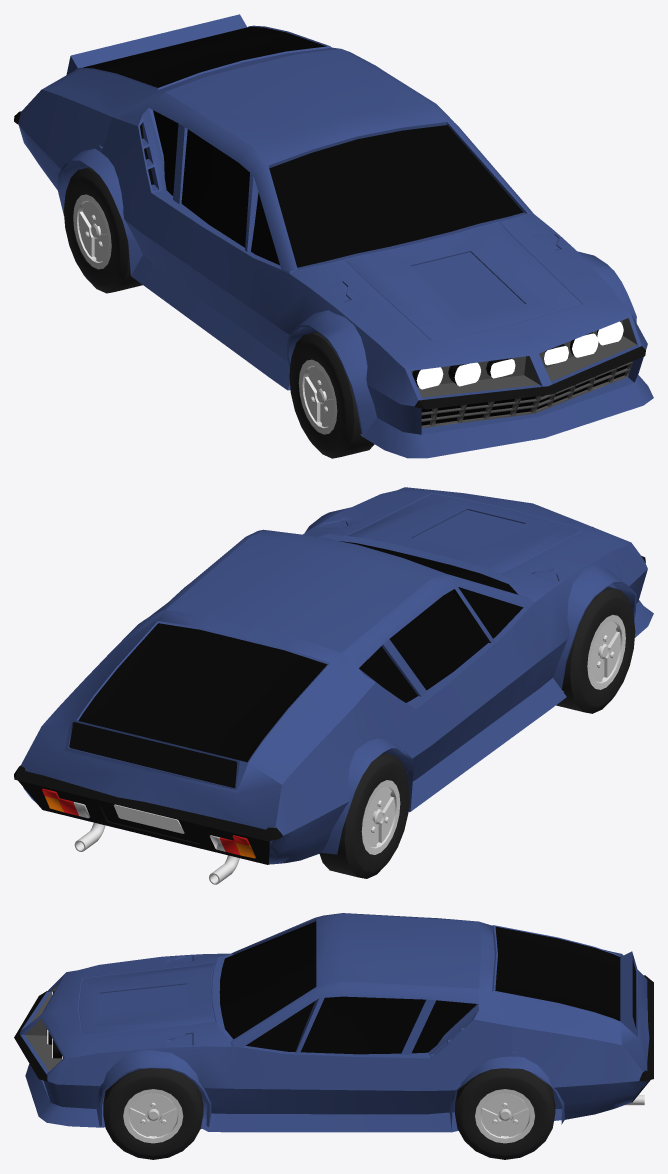
3 renders of one model, top to bottom at view 1: azimuth 30°, elevation 25°; view 2: azimuth 150°, elevation 25°; view 3: azimuth 270°, elevation 25°, orthographic. The views are drawn at different scales.
Visible parts, largest first — view 1: Sedan, Cylinder.003, Cylinder.002; view 2: Sedan, Cylinder.002, Cylinder.003; view 3: Sedan, Cylinder.001, Cylinder.
Part boxes in pixels (box(x1,y1,x2,y2)): Sedan: box(14, 14, 653, 458); Cylinder.003: box(289, 332, 374, 458); Cylinder.002: box(63, 167, 142, 293); Sedan: box(14, 487, 653, 884); Cylinder.002: box(319, 752, 409, 878); Cylinder.003: box(556, 587, 635, 713); Sedan: box(14, 913, 653, 1132); Cylinder.001: box(455, 1068, 555, 1159); Cylinder: box(103, 1068, 203, 1159).
Size of the model in its own units: 313 by 219 by 764.
